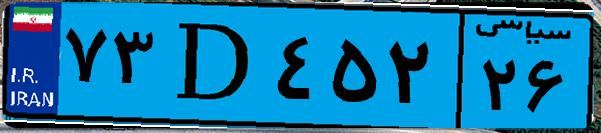2: (385, 28, 445, 110), (475, 38, 525, 113)
3: (110, 28, 158, 98)
4: (270, 28, 330, 110)
5: (330, 28, 385, 110)
6: (525, 38, 570, 115)
7: (57, 26, 110, 100)
D: (158, 12, 270, 120)
